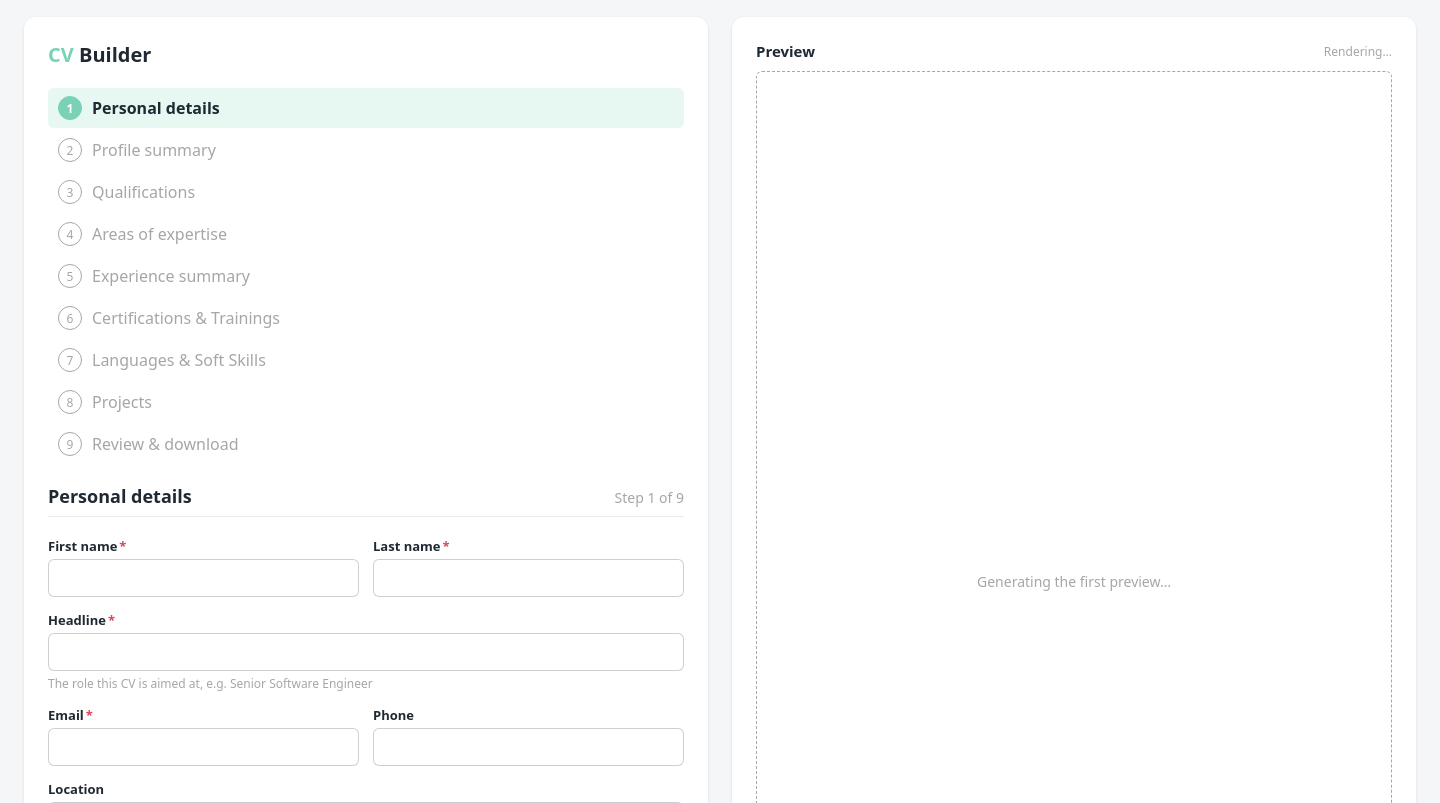
Test case: validation gating › advances after the required fields are typed in
The width and height of the screenshot is (1440, 803).
In the field labelled "First name*": (204,578) [48, 559, 359, 597], type "Ada"
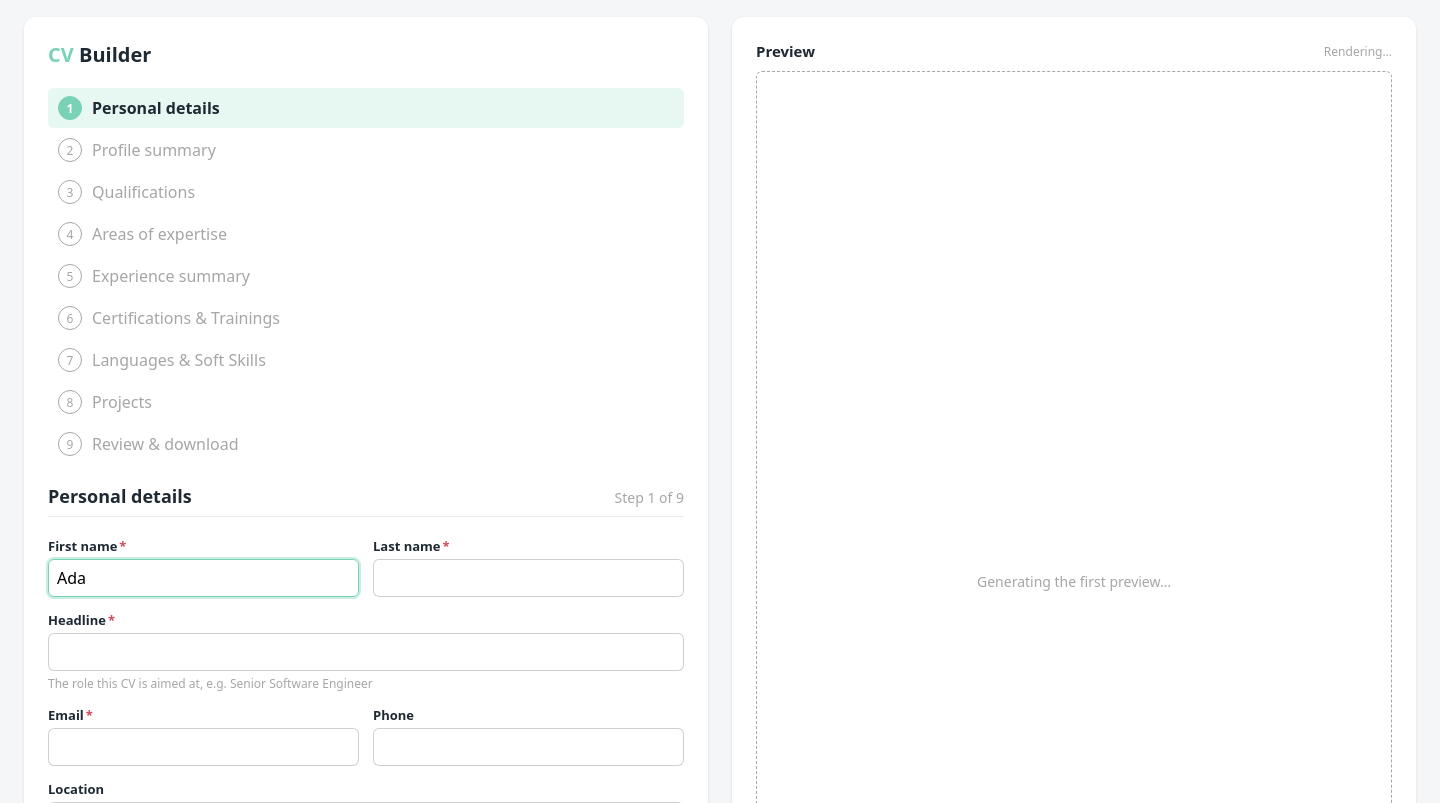
In the field labelled "Last name*": (528,578) [373, 559, 684, 597], type "Lovelace"
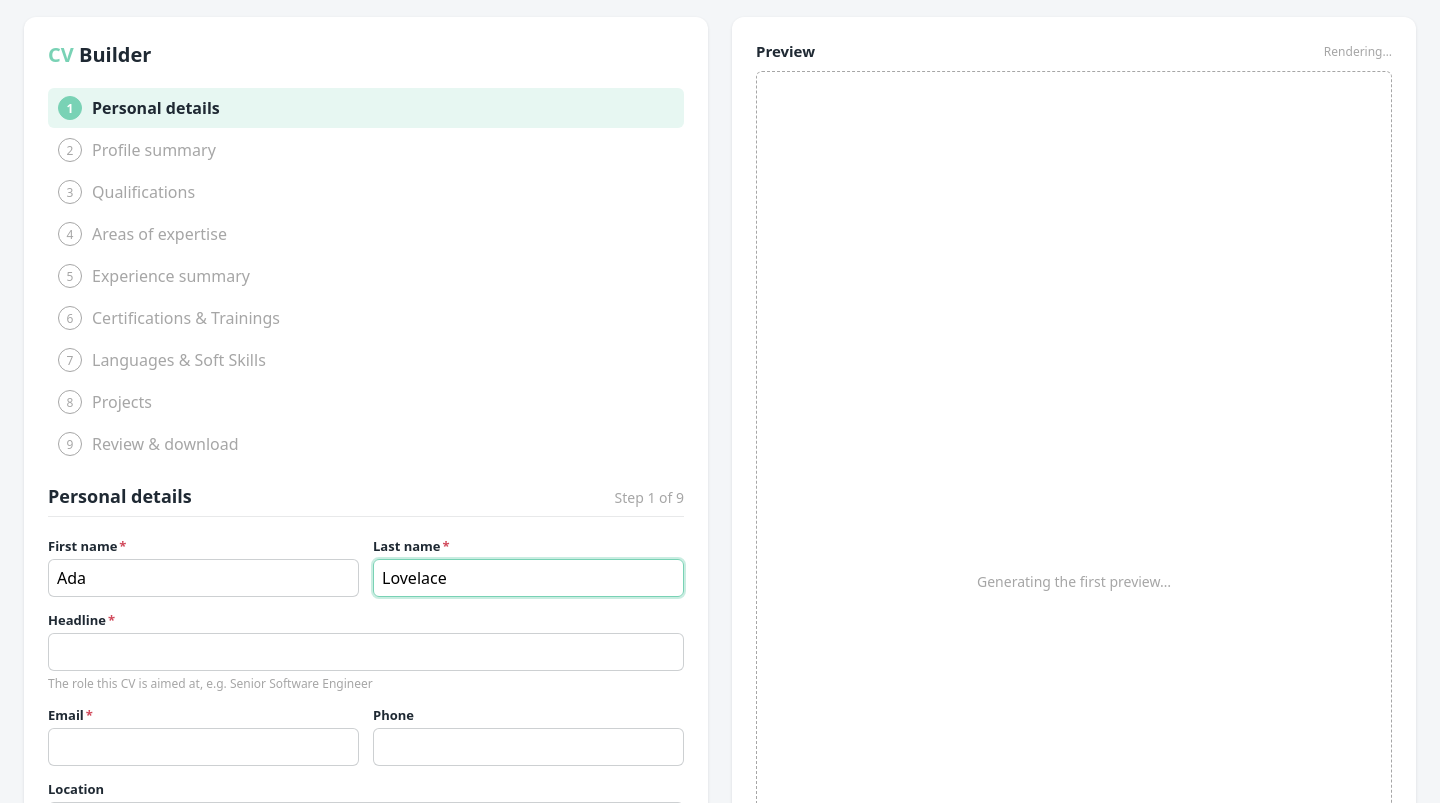
In the field labelled "Headline*": (366,652) [48, 633, 684, 671], type "Senior Engineer"
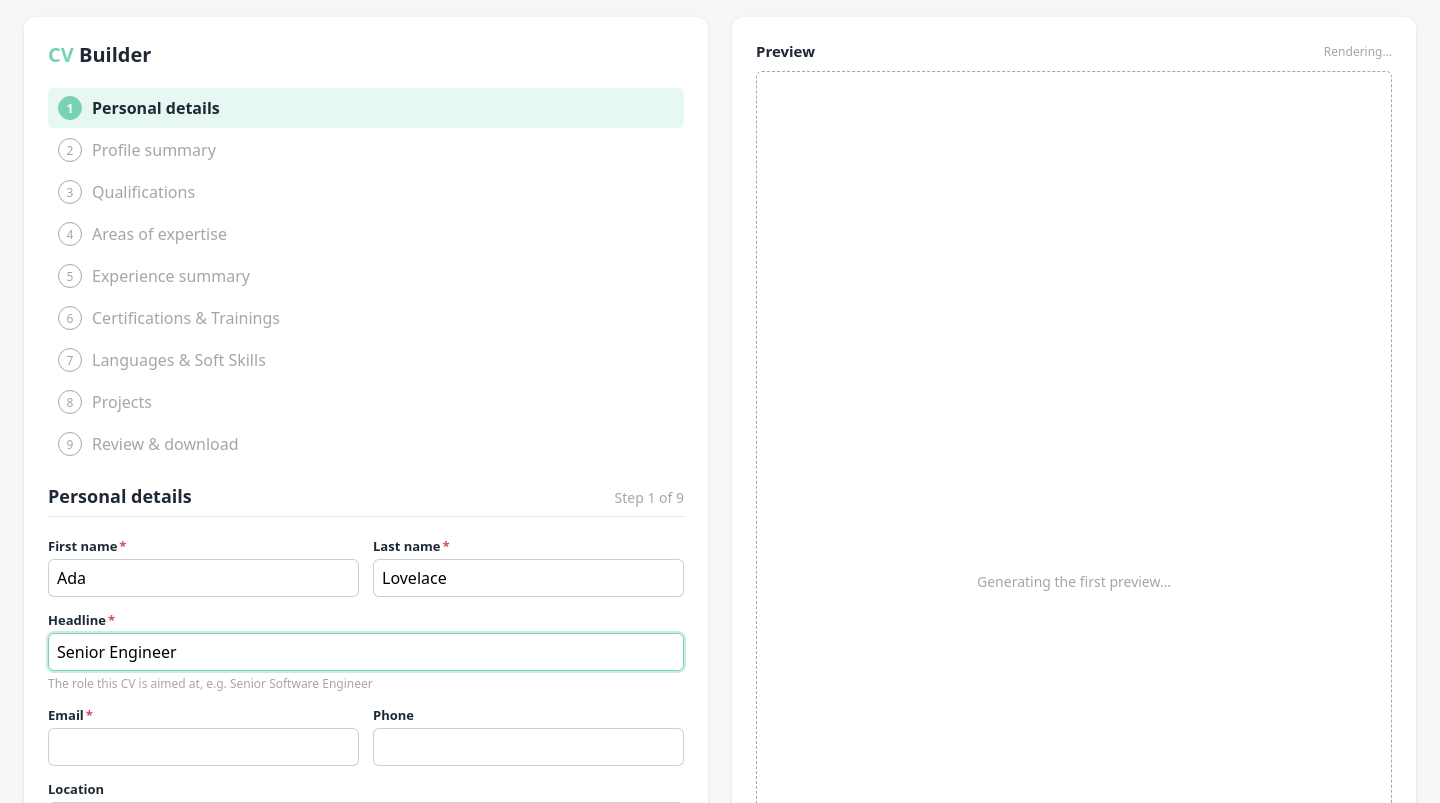
In the field labelled "Email*": (204,747) [48, 728, 359, 766], type "ada@example.com"
(page scrolled)
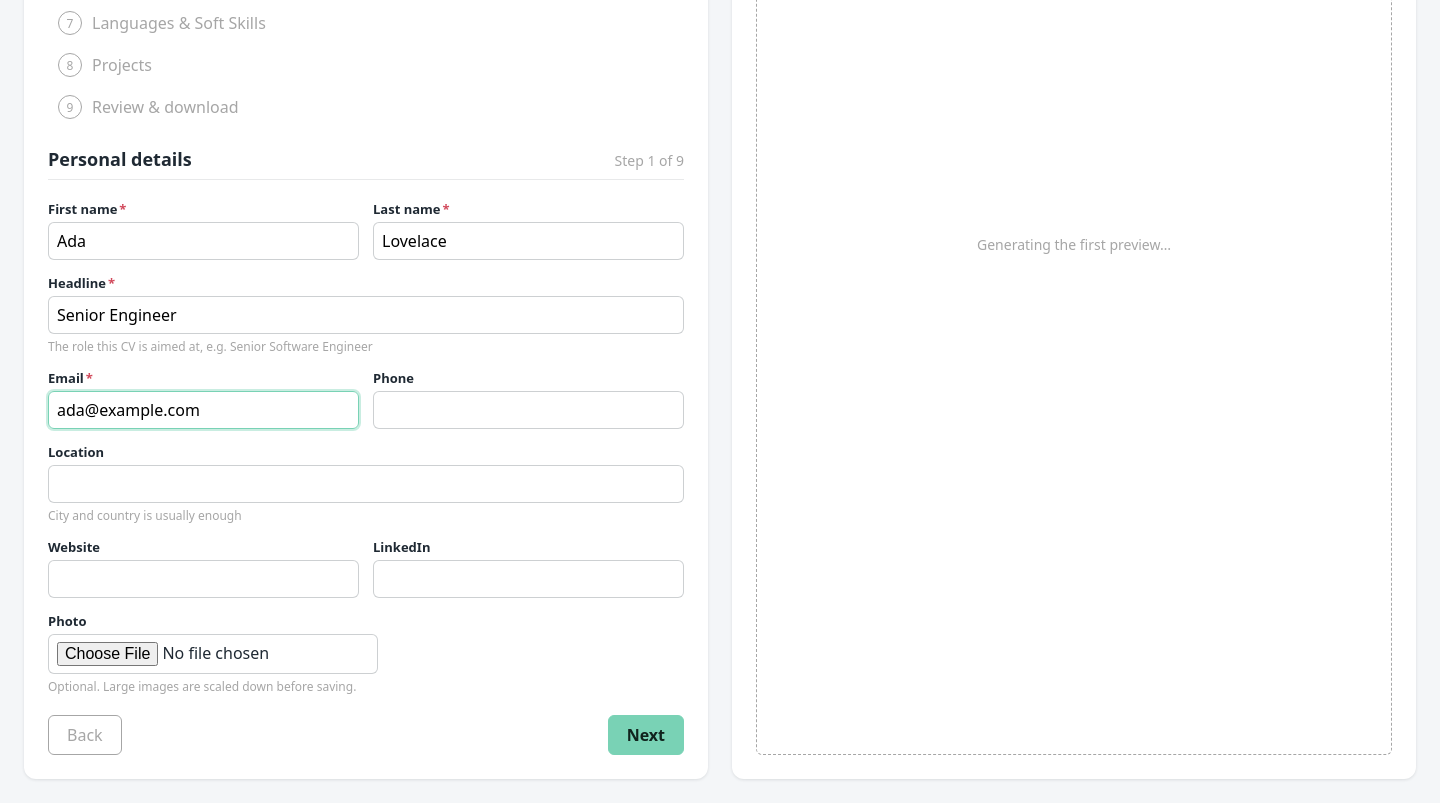
Click the button "Next": (646,735) [608, 715, 684, 755]
(page scrolled)
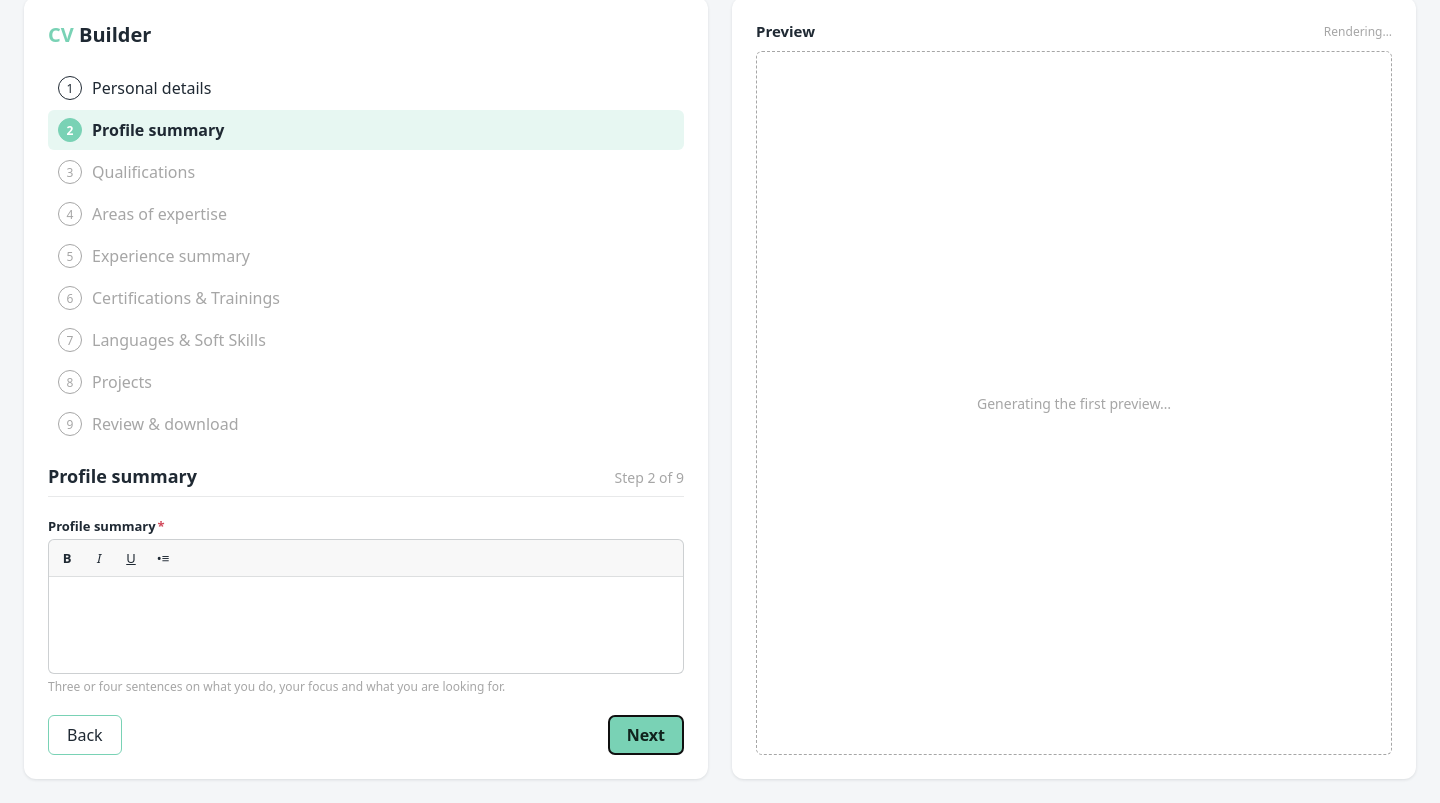
Expected: the heading "Profile summary" is shown, [48, 464, 197, 488]
